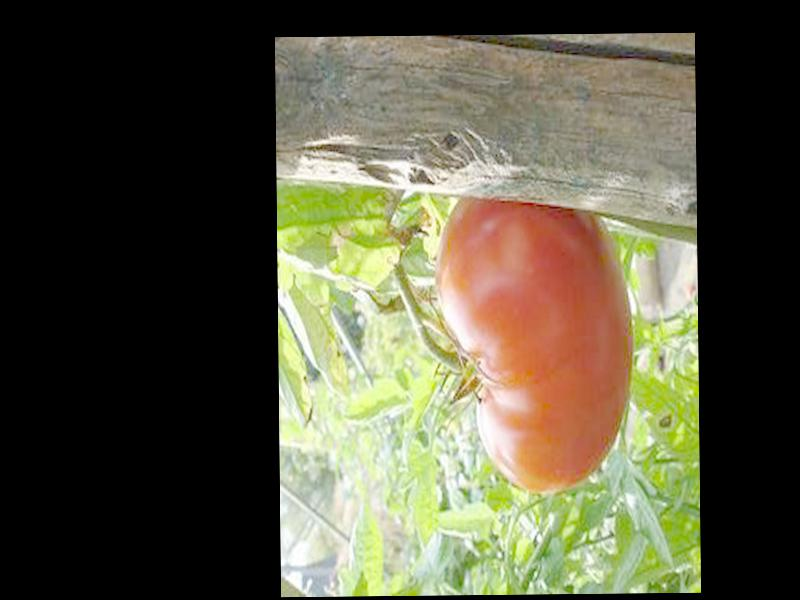Tomato: (434, 191, 632, 495)
